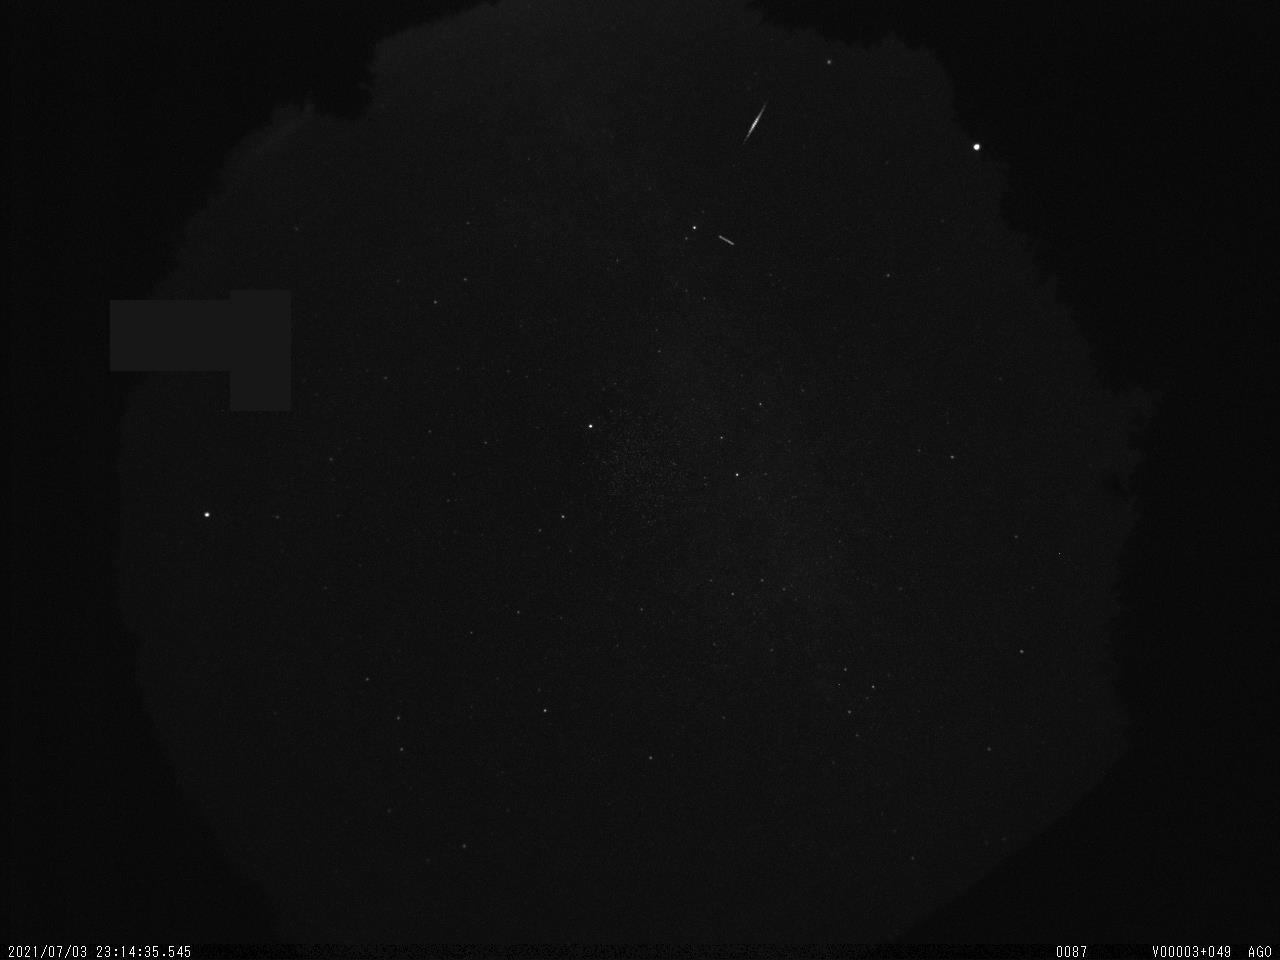meteor: (733, 87, 777, 152)
satelite: (713, 229, 738, 251)
